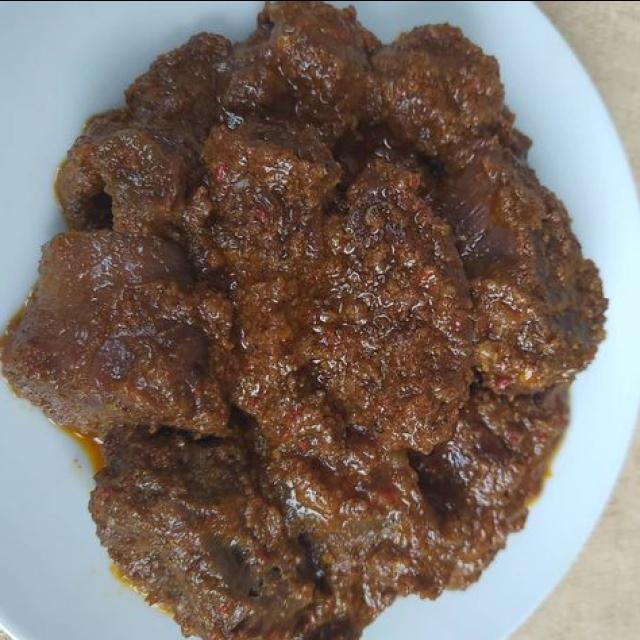rendang: (0, 0, 609, 640)
